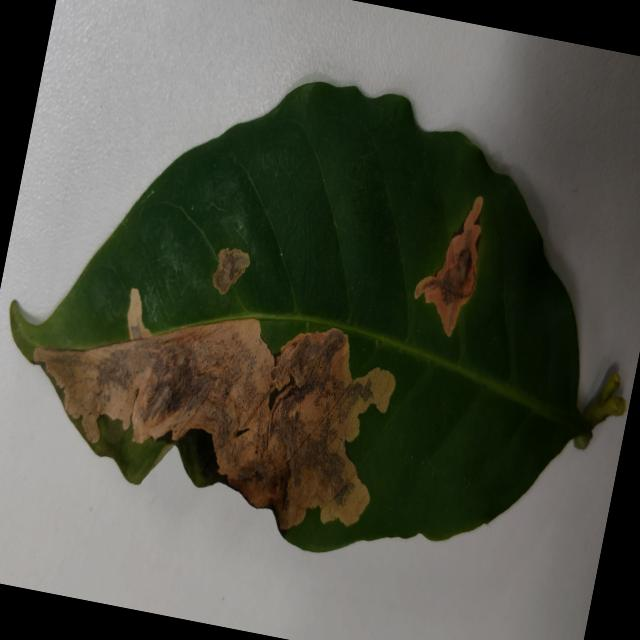KaratDaunKopi: (34, 320, 395, 529), (414, 197, 483, 337), (212, 248, 249, 295), (127, 288, 151, 340)
